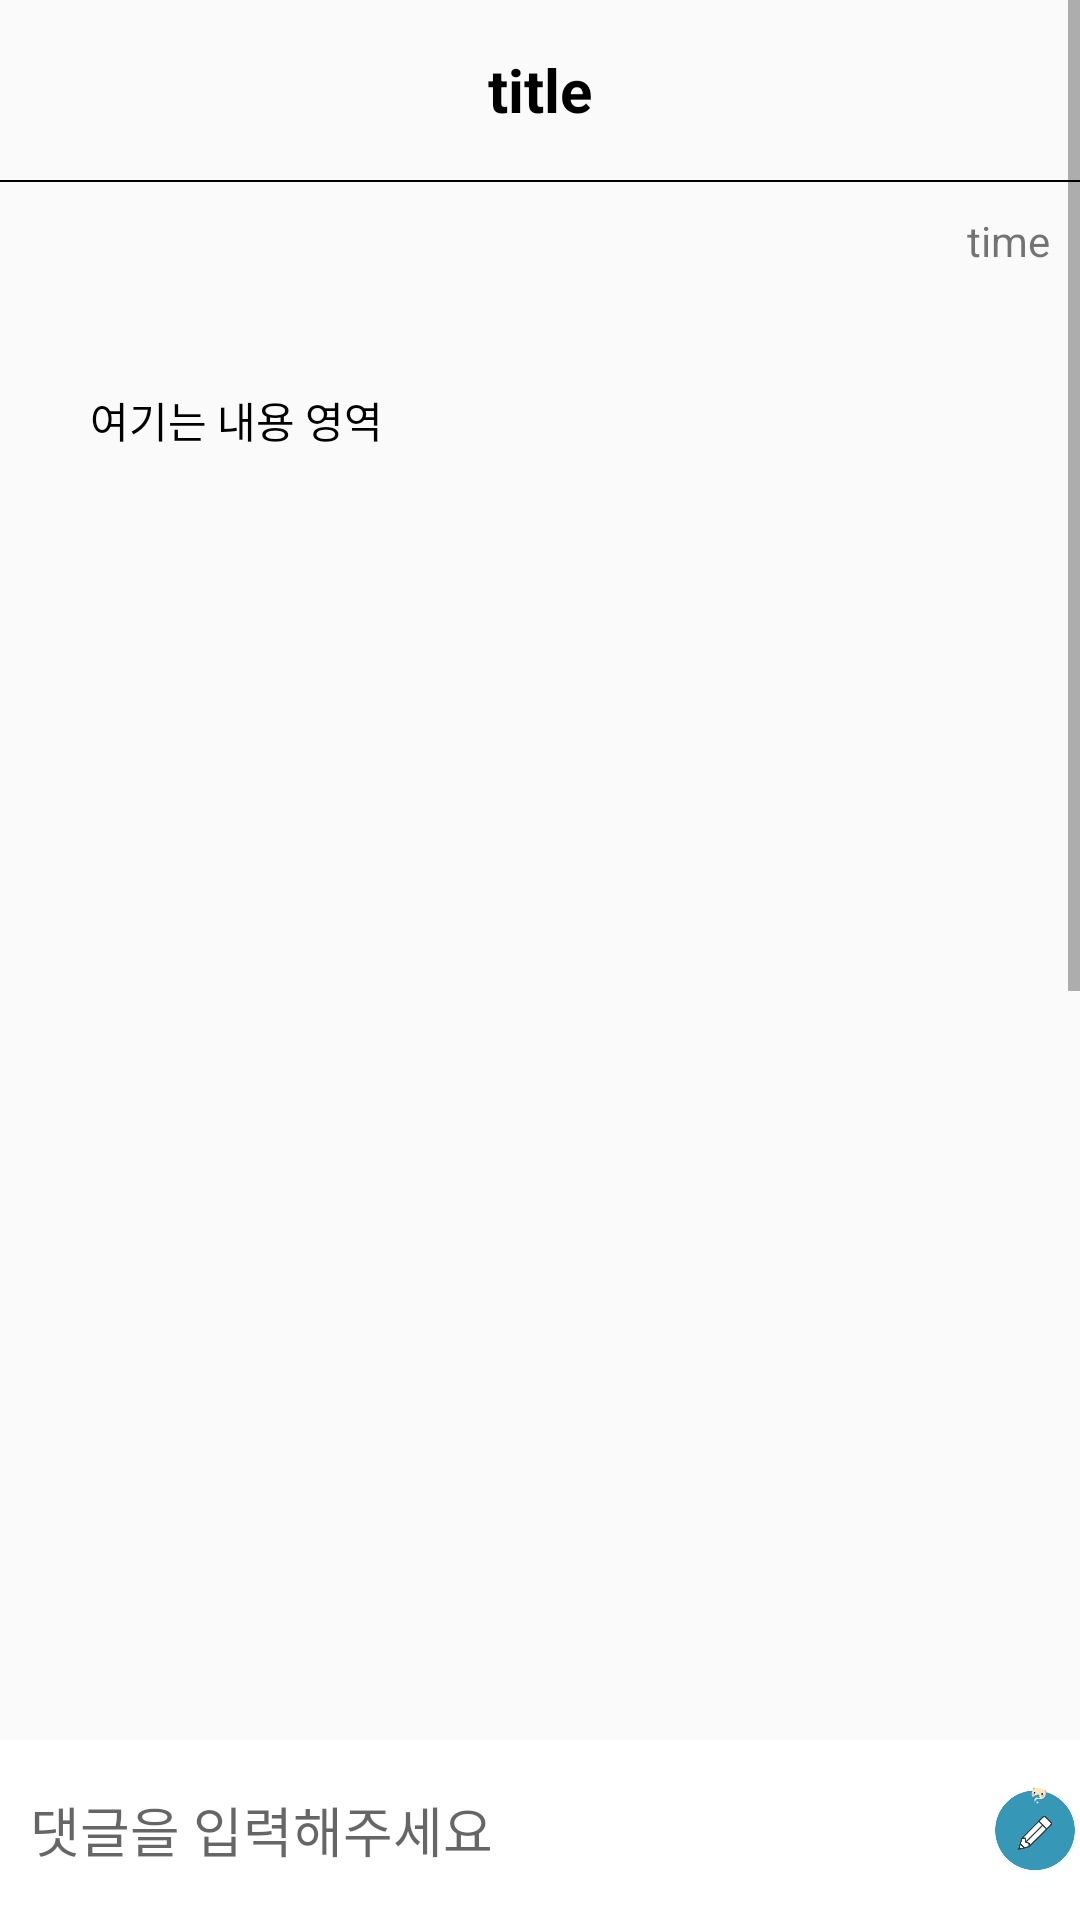

Screen size 1080 × 1920. Icon name, then its box in pixels as [x1=x1, y1=y1, x2=x2, y2=y2]:
btnwrite: [x1=995, y1=1787, x2=1075, y2=1870]
